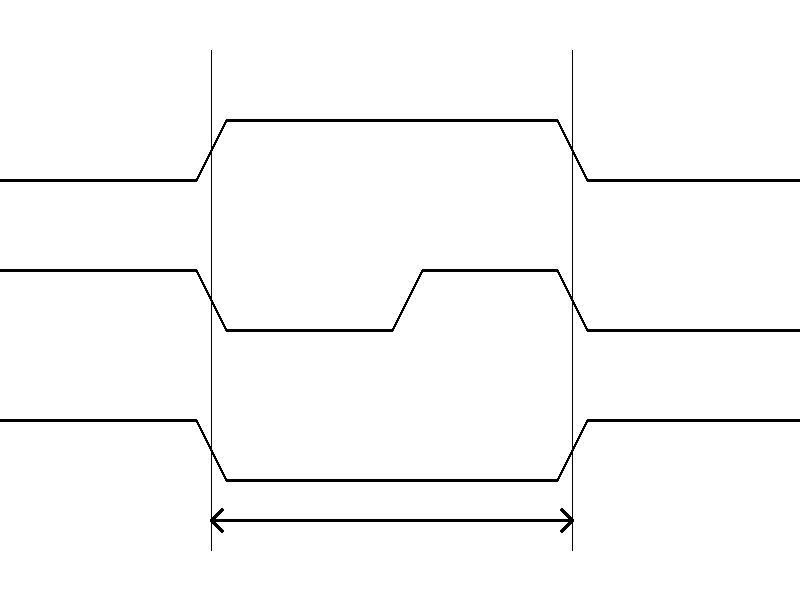double_arrow: (211, 505, 572, 535)
